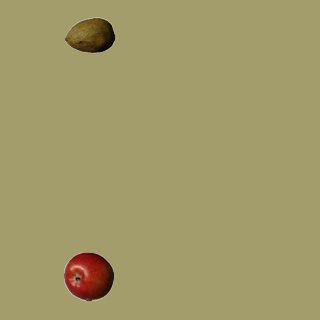Apple Braeburn: (63, 251, 113, 301)
Papaya: (64, 10, 114, 60)
